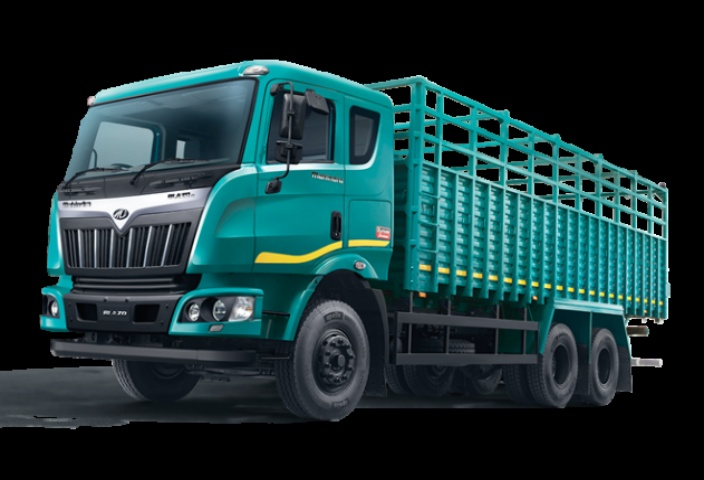truck: (52, 63, 683, 433)
